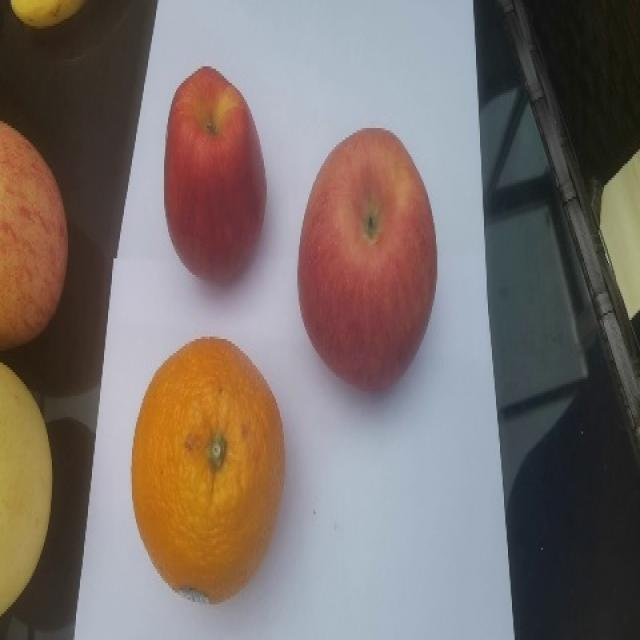Apple: (299, 126, 441, 396), (160, 66, 268, 285), (0, 119, 76, 352)
Orange: (130, 331, 283, 606)
